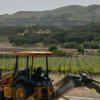Tractor: (4, 40, 71, 100)
